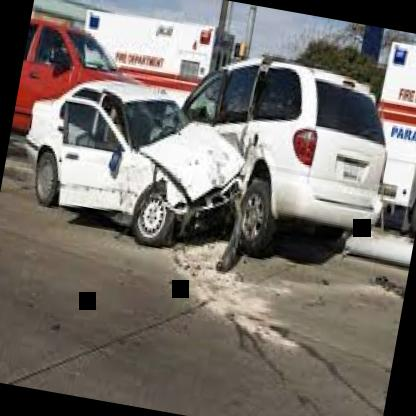accident: (6, 10, 412, 302)
